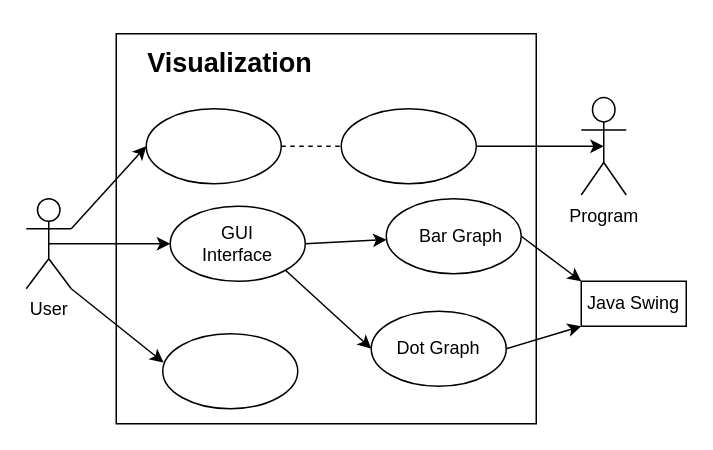
This 713x450 diagram has some shape labels left out. The box of each missing label's shape, as (x1, y1, x2, y2) in pixels:
Exit: (161, 332, 298, 409)
Input File (from dataset): (340, 107, 476, 184)
Load File: (145, 107, 281, 184)
